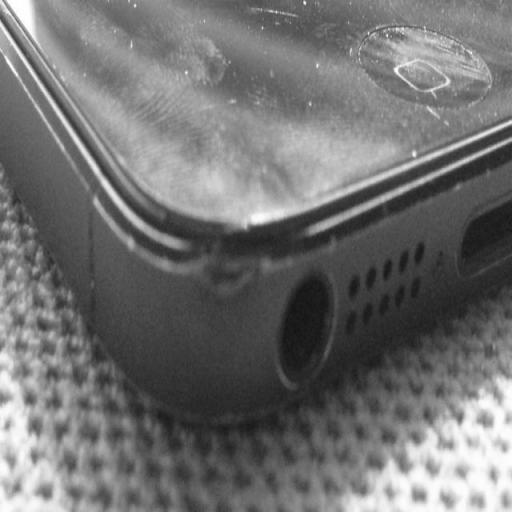phone: (0, 0, 511, 444)
